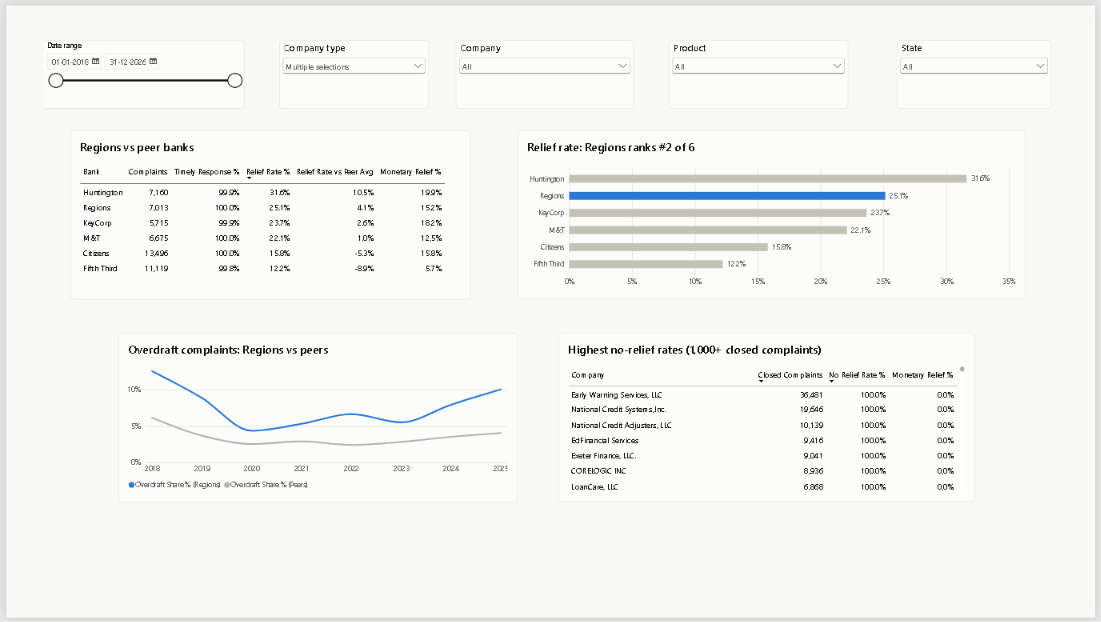

Layout of this report page (visuals, bound fields, positions):
{"tool":"powerbi","page":{"name":"Company Benchmarking","canvas":[1920,1080],"ordinal":2},"visuals":[{"type":"slicer","fields":{"Values":["dim_date.date"]},"box":[63.8,61.5,356.8,120.5],"z":0},{"type":"slicer","fields":{"Values":["dim_company.company_type"]},"box":[482,61.5,263.6,120.5],"z":1000},{"type":"slicer","fields":{"Values":["dim_company.company_name"]},"box":[793.4,61.5,313.6,120.5],"z":2000},{"type":"slicer","fields":{"Values":["dim_product.product_group"]},"box":[1168.4,61.5,315.9,120.5],"z":3000},{"type":"slicer","fields":{"Values":["dim_geography.state_name"]},"box":[1570.7,61.5,272.7,120.5],"z":4000},{"type":"tableEx","title":"Regions vs peer banks","fields":{"Values":["dim_company.company_label","_Measures.Complaints","_Measures.Timely Response %","_Measures.Relief Rate %","_Measures.Relief Rate vs Peer Avg","_Measures.Monetary Relief %"]},"box":[113.7,219.6,705.9,298],"z":5000},{"type":"clusteredBarChart","title":"Relief rate: Regions ranks #2 of 6","fields":{"Category":["dim_company.company_label"],"Y":["_Measures.Relief Rate %"]},"box":[902,219.6,894.9,297.4],"z":6000},{"type":"lineChart","title":"Overdraft complaints: Regions vs peers","fields":{"Category":["dim_date.year"],"Y":["_Measures.Overdraft Share % (Regions)","_Measures.Overdraft Share % (Peers)"]},"box":[198,578.4,703.1,298.5],"z":7000},{"type":"tableEx","title":"Highest no-relief rates (1,000+ closed complaints)","fields":{"Values":["dim_company.company_name","_Measures.Closed Complaints","_Measures.No Relief Rate %","_Measures.Monetary Relief %"]},"box":[974.5,578.4,733.3,297.4],"z":8000}]}

Visuals, with their boxes in screenshot pixels (x1, y1, x2, y2), scaled from the page's 1920x1080 canvas onto the 1101x622 screenshot:
slicer - dim_date.date: detection(37, 35, 241, 105)
slicer - dim_company.company_type: detection(276, 35, 428, 105)
slicer - dim_company.company_name: detection(455, 35, 635, 105)
slicer - dim_product.product_group: detection(670, 35, 851, 105)
slicer - dim_geography.state_name: detection(901, 35, 1057, 105)
"Regions vs peer banks" tableEx: detection(65, 126, 470, 298)
"Relief rate: Regions ranks #2 of 6" clusteredBarChart: detection(517, 126, 1030, 298)
"Overdraft complaints: Regions vs peers" lineChart: detection(114, 333, 517, 505)
"Highest no-relief rates (1,000+ closed complaints)" tableEx: detection(559, 333, 979, 504)
